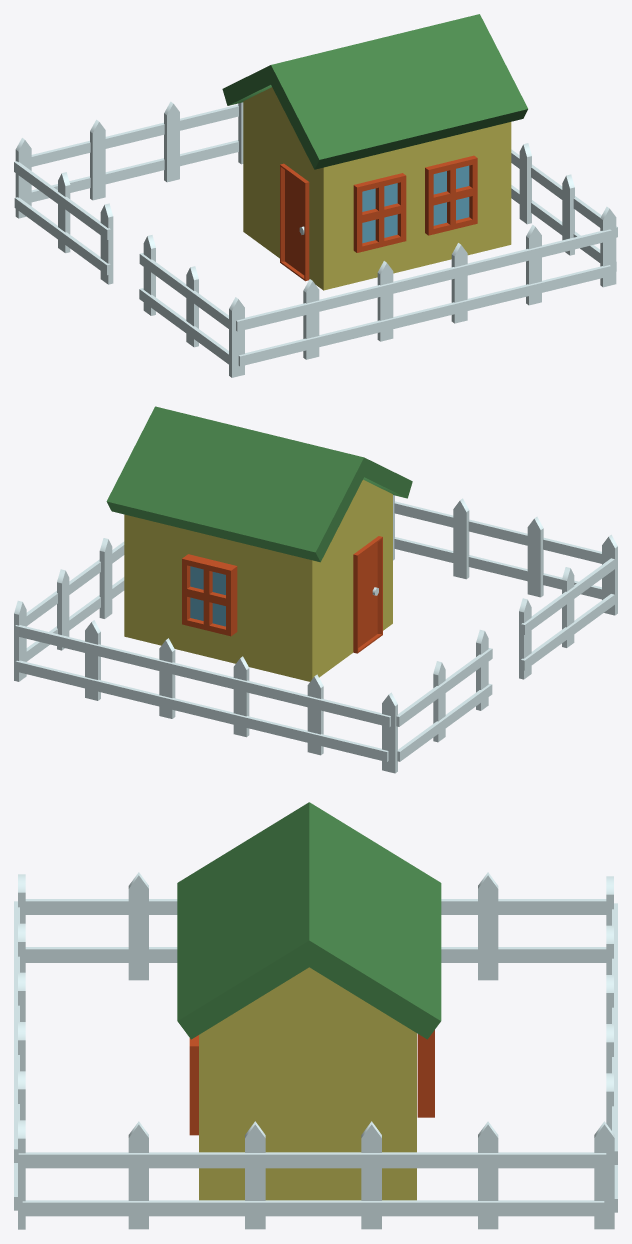
Rendered from House1.FBX.
3 renders of one model, top to bottom at view 1: azimuth 30°, elevation 25°; view 2: azimuth 150°, elevation 25°; view 3: azimuth 270°, elevation 25°, orthographic. The views are drawn at different scales.
Parts seen in each view (by area): view 1: Box001; view 2: Box001; view 3: Box001.
Part boxes in pixels (x1,y1,x2,y2): Box001: (14, 14, 617, 377); Box001: (14, 406, 617, 773); Box001: (14, 802, 617, 1229).
Size of the model in its own units: 6.81 by 3.35 by 6.79.
